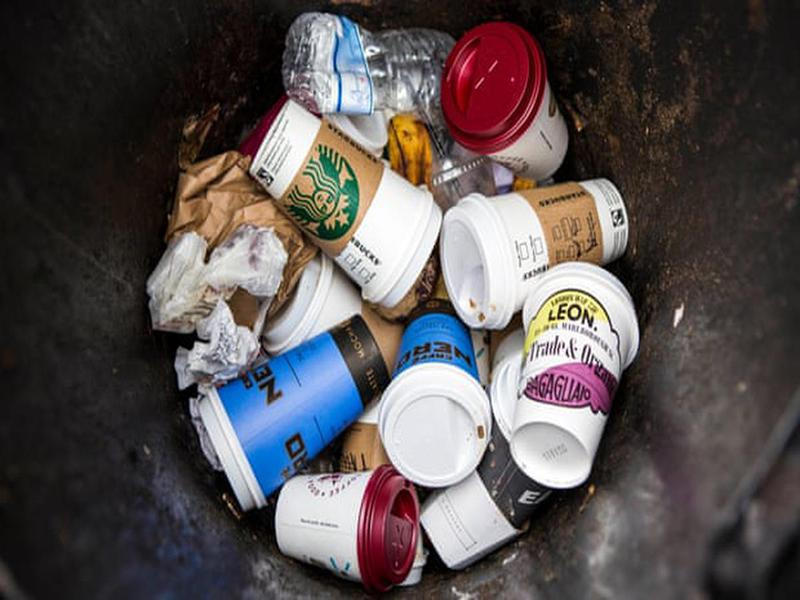bottle: (278, 7, 459, 117)
cup: (244, 100, 445, 309), (192, 315, 389, 515), (506, 264, 642, 491), (441, 178, 632, 333), (371, 310, 495, 492), (434, 20, 572, 183), (270, 465, 421, 592)
plastic: (131, 226, 289, 325)
